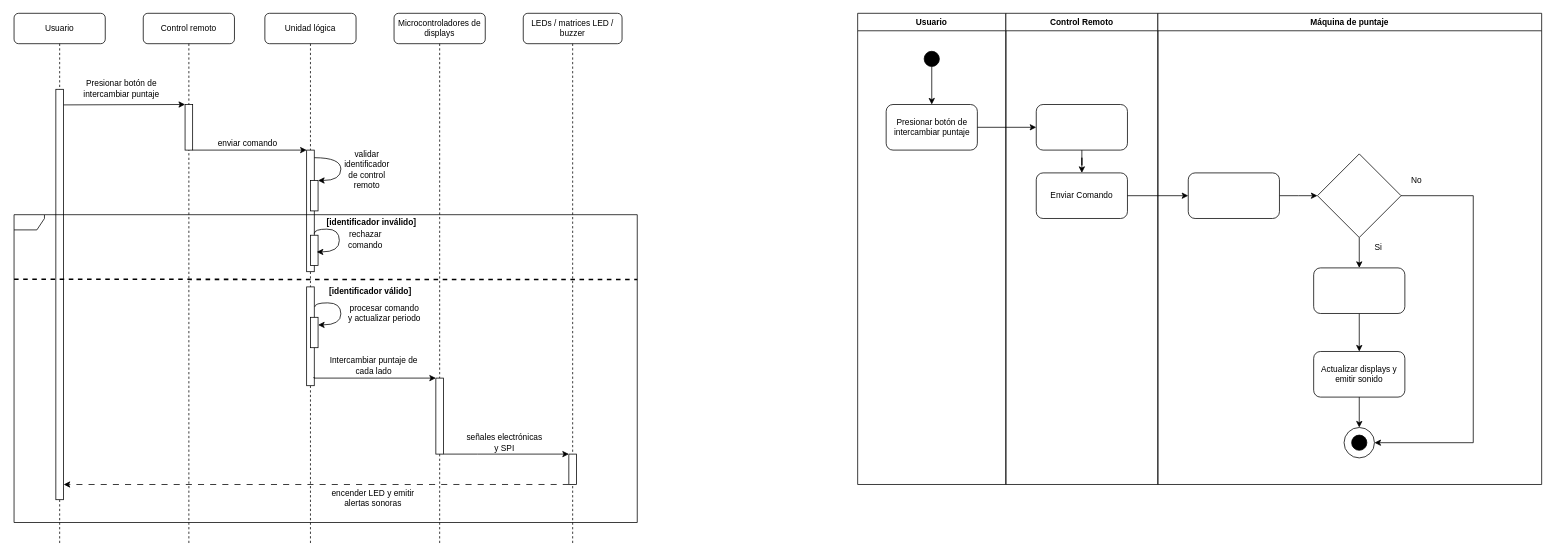
Some shapes in this 1555 by 559 pixel diagram are drawn without their labels. The shapes that lost their labels are listed below. From the top down, each one's box as (x1, y1, x2, y2) in pixels, then its label:
(1036, 104, 1127, 150): Detectar Boton presionado
(1188, 172, 1279, 218): Recibir Comando
(1317, 153, 1401, 238): Identificador de control remoto es válido?
(1313, 267, 1405, 314): Procesar comando
(13, 214, 637, 522): alt
